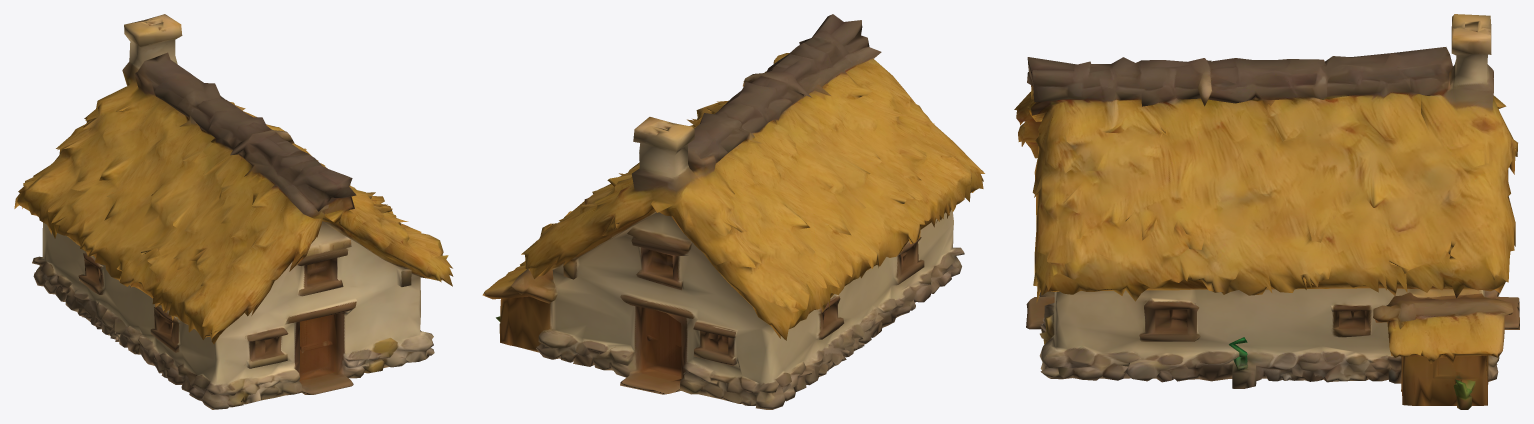
The model's file is tripo_thatched_farmhouse.glb.
The picture shows the model from 3 angles, left to right: view 1: azimuth 30°, elevation 25°; view 2: azimuth 150°, elevation 25°; view 3: azimuth 270°, elevation 25°; orthographic projection. The views are drawn at different scales.
Parts seen in each view (by area): view 1: thatched_farmhouse; view 2: thatched_farmhouse; view 3: thatched_farmhouse.
Part boxes in pixels (box(x1,y1,x2,y2)): thatched_farmhouse: box(14, 14, 453, 409); thatched_farmhouse: box(482, 14, 984, 409); thatched_farmhouse: box(1014, 14, 1519, 409).
Size of the model in its own units: 9.21 by 7 by 10.97.
Materials: 1 (1 with a texture image).
